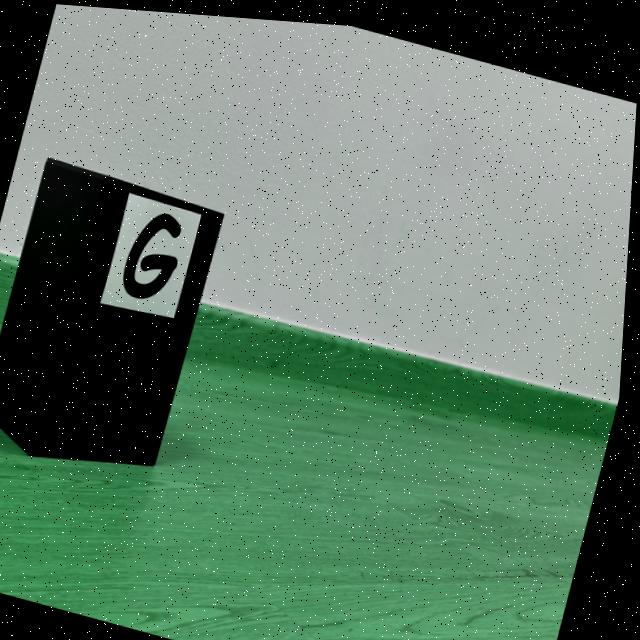G: (126, 211, 184, 297)
